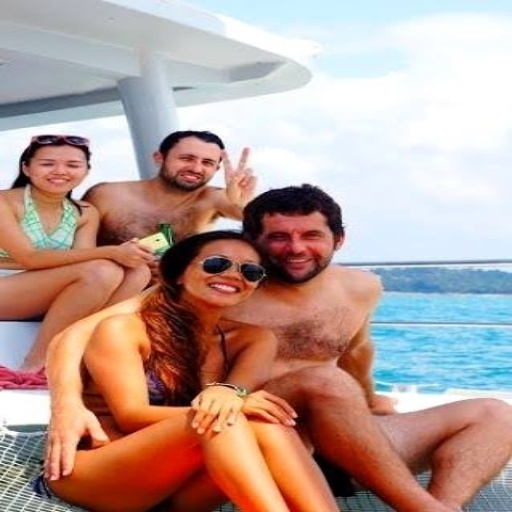hand: (36, 400, 107, 483), (189, 384, 247, 438), (216, 142, 260, 204), (234, 396, 296, 435), (107, 238, 154, 268), (365, 390, 396, 416)
